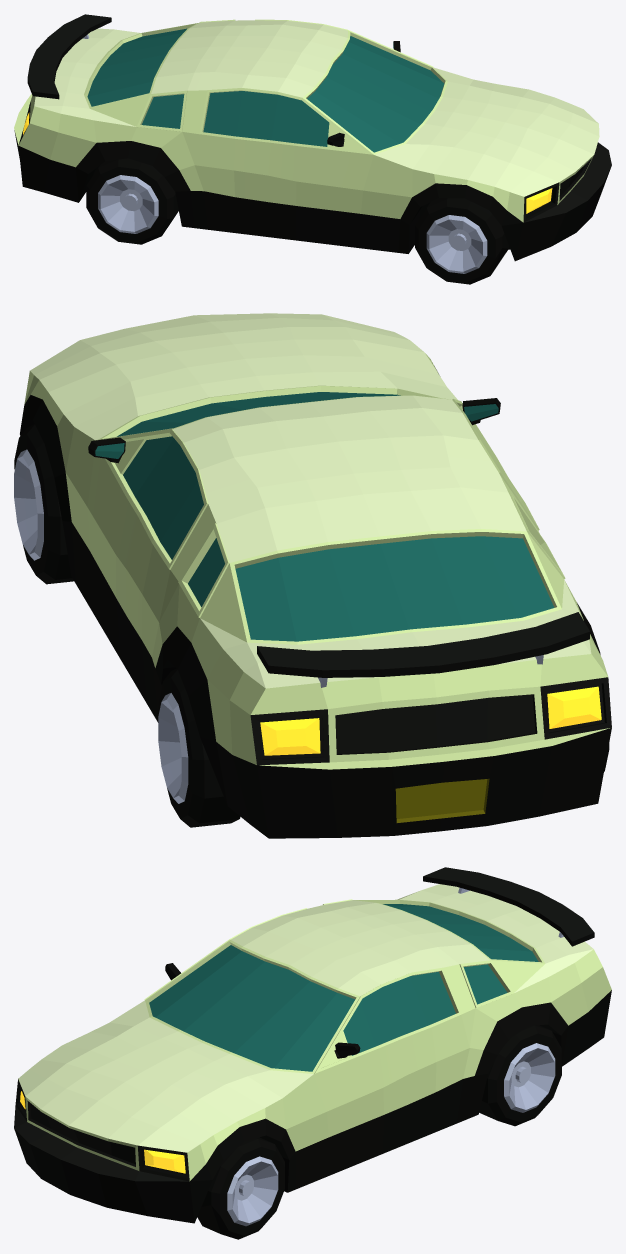
The model's file is SportCar_01.glb.
3 renders of one model, top to bottom at view 1: azimuth 30°, elevation 25°; view 2: azimuth 150°, elevation 25°; view 3: azimuth 270°, elevation 25°, orthographic. The views are drawn at different scales.
Parts seen in each view (by area): view 1: Sportcar_01; view 2: Sportcar_01; view 3: Sportcar_01.
Part boxes in pixels (left/top/right/bottom): Sportcar_01: left=14, top=14, right=611, bottom=284; Sportcar_01: left=14, top=313, right=611, bottom=838; Sportcar_01: left=14, top=867, right=611, bottom=1239.
Size of what is drawn, in the model's own units: 5.27 by 1.79 by 5.36.
Materials: 1 (1 with a texture image).
